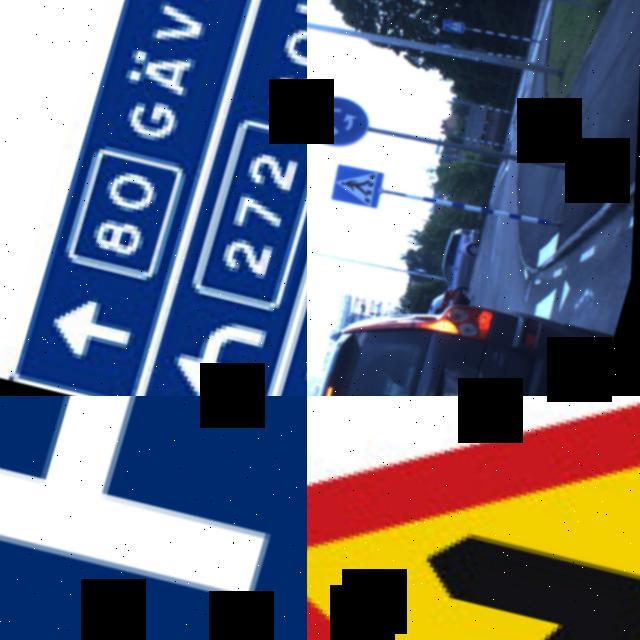139: (307, 396, 640, 640)
Advance direction sign exit ahead from other road than motorway or expressway: (7, 0, 307, 396)
Parking: (0, 396, 307, 640)
Pedestrian crossing: (322, 157, 392, 214), (436, 15, 468, 38)
Roundabout: (307, 84, 377, 157)
